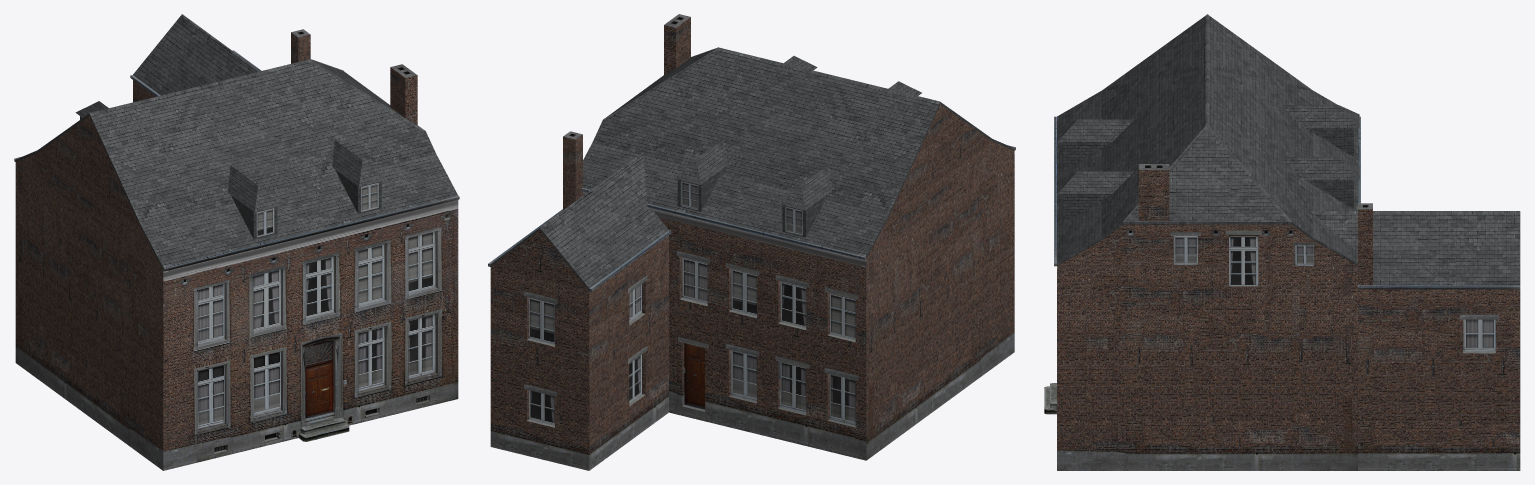
Rendered from nivelles_house_2_belgium.glb.
The picture shows the model from 3 angles, left to right: view 1: azimuth 30°, elevation 25°; view 2: azimuth 150°, elevation 25°; view 3: azimuth 270°, elevation 25°; orthographic projection. The views are drawn at different scales.
Parts seen in each view (by area): view 1: building 2.0; view 2: building 2.0; view 3: building 2.0.
Part boxes in pixels (bbox=[...]): building 2.0: bbox=[14, 14, 459, 470]; building 2.0: bbox=[488, 14, 1015, 470]; building 2.0: bbox=[1044, 14, 1520, 470].
Size of the model in its own units: 12.1 by 11.81 by 16.44.
1 material, 1 textured.
